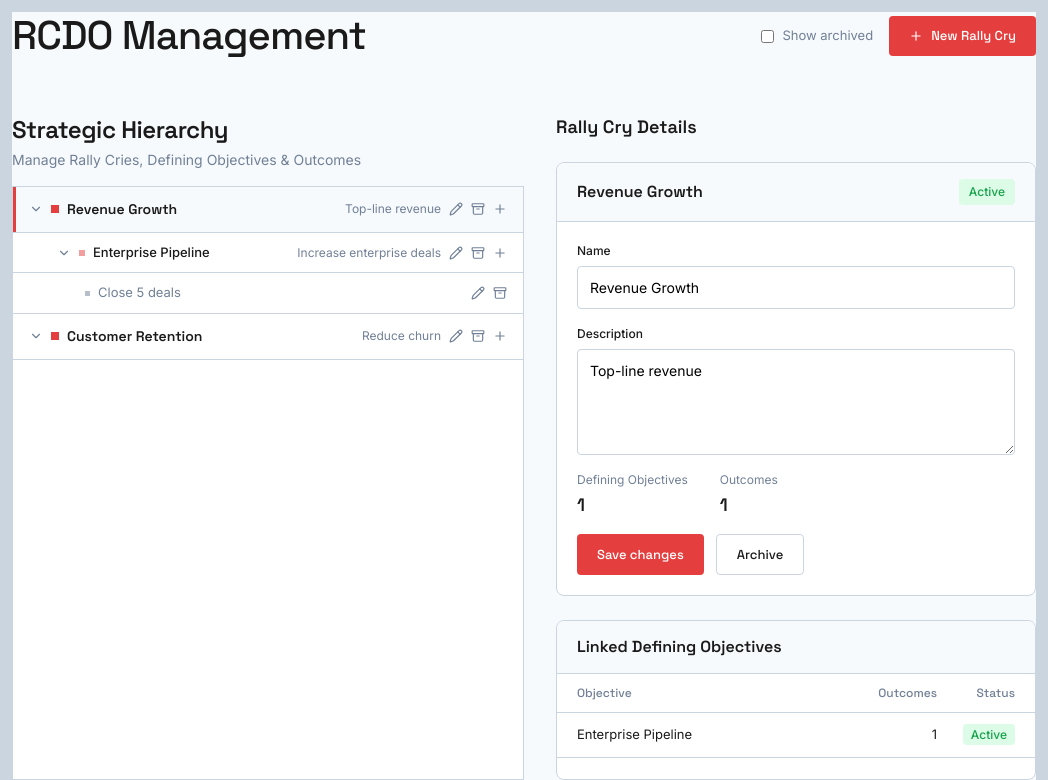
Test: StrategyManagementPage › cancel inline edit closes the editor
Click the button with test id "edit-node-btn" next to "Top-line revenue": {"x": 456, "y": 209} [449,202,463,216]
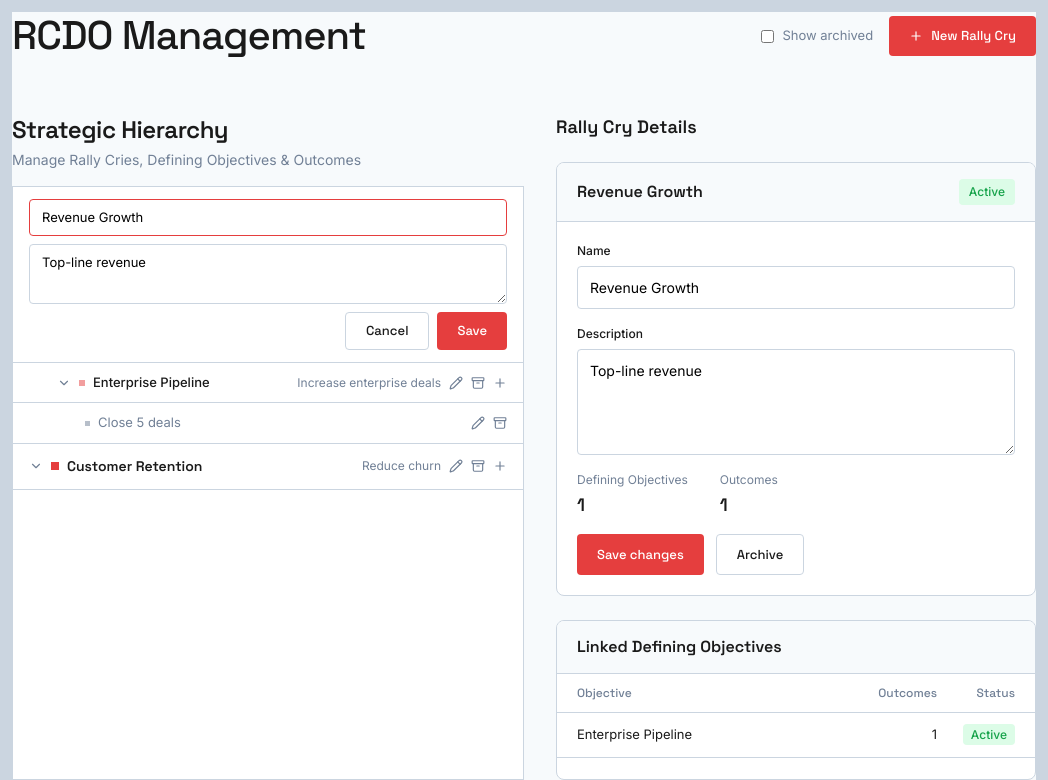
Now the field with test id "inline-edit-name" is shown, box [29,199,507,236]
Click the button "Cancel": {"x": 387, "y": 331} [345,312,430,350]
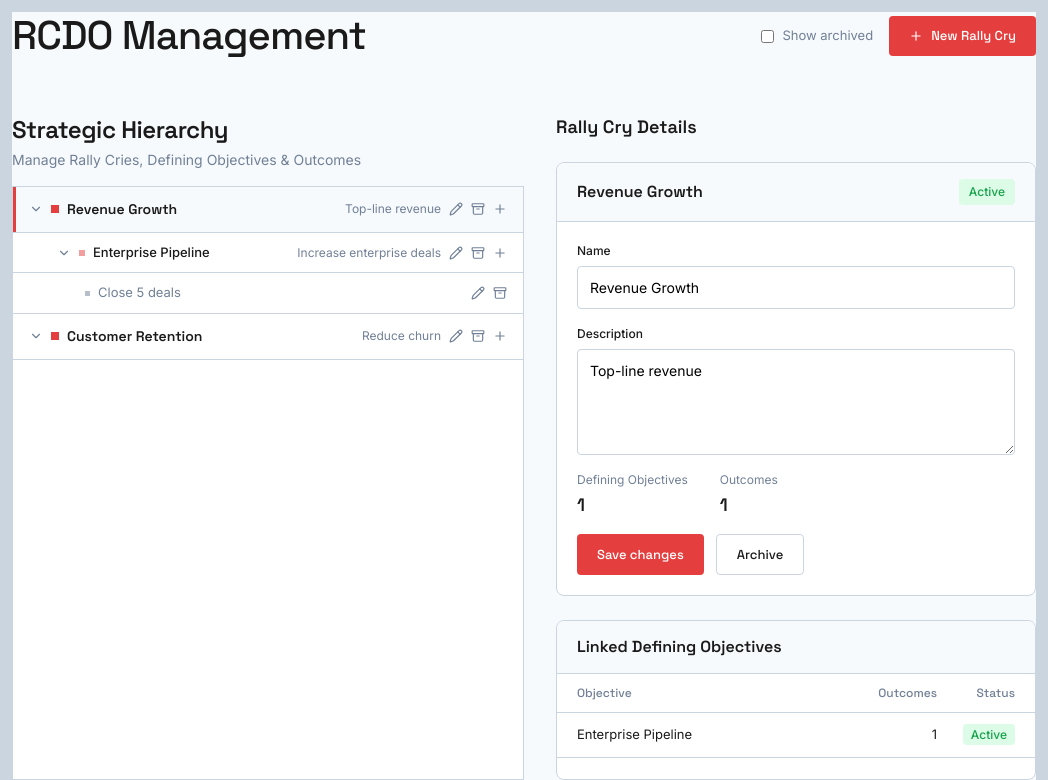
Now the field with test id "inline-edit-name" is gone
